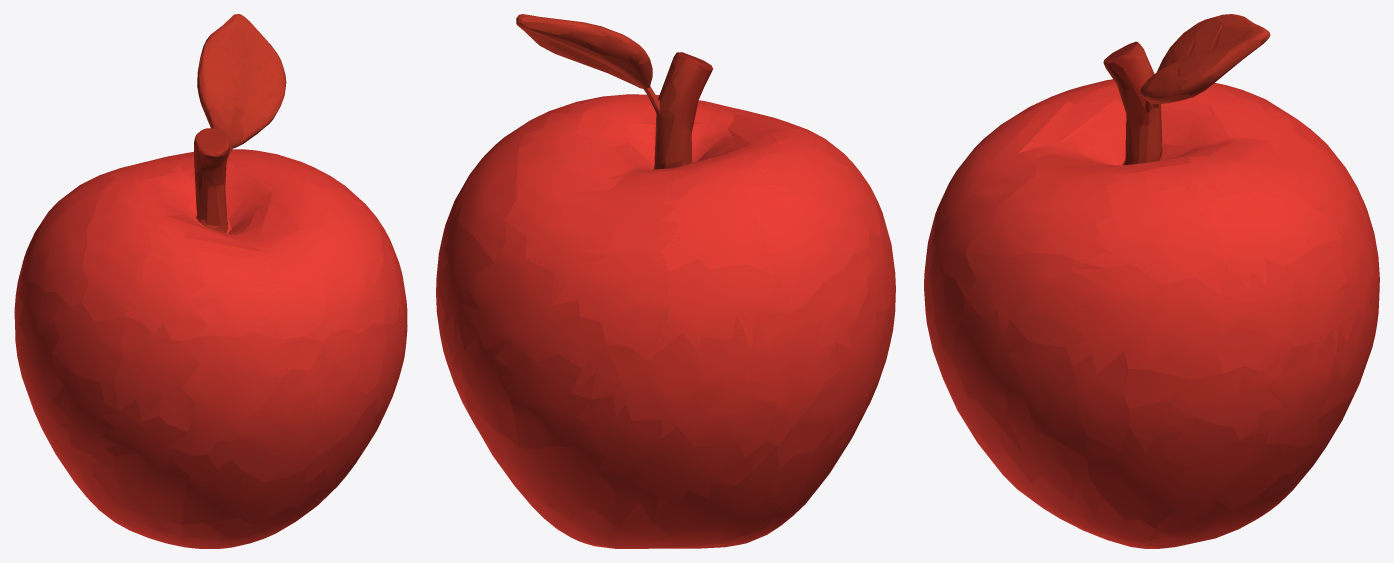
Rendered from apple.4c797628.glb.
3 renders of one model, left to right at view 1: azimuth 30°, elevation 25°; view 2: azimuth 150°, elevation 25°; view 3: azimuth 270°, elevation 25°, orthographic. The views are drawn at different scales.
Parts seen in each view (by area): view 1: output_unwrapped; view 2: output_unwrapped; view 3: output_unwrapped.
Part boxes in pixels (<box>): output_unwrapped: <box>14,14,407,548</box>; output_unwrapped: <box>436,14,895,548</box>; output_unwrapped: <box>924,14,1379,548</box>.
Bounding box in the file's own units: 1.51 × 1.9 × 1.51.
Materials: 1 (1 with a texture image).
